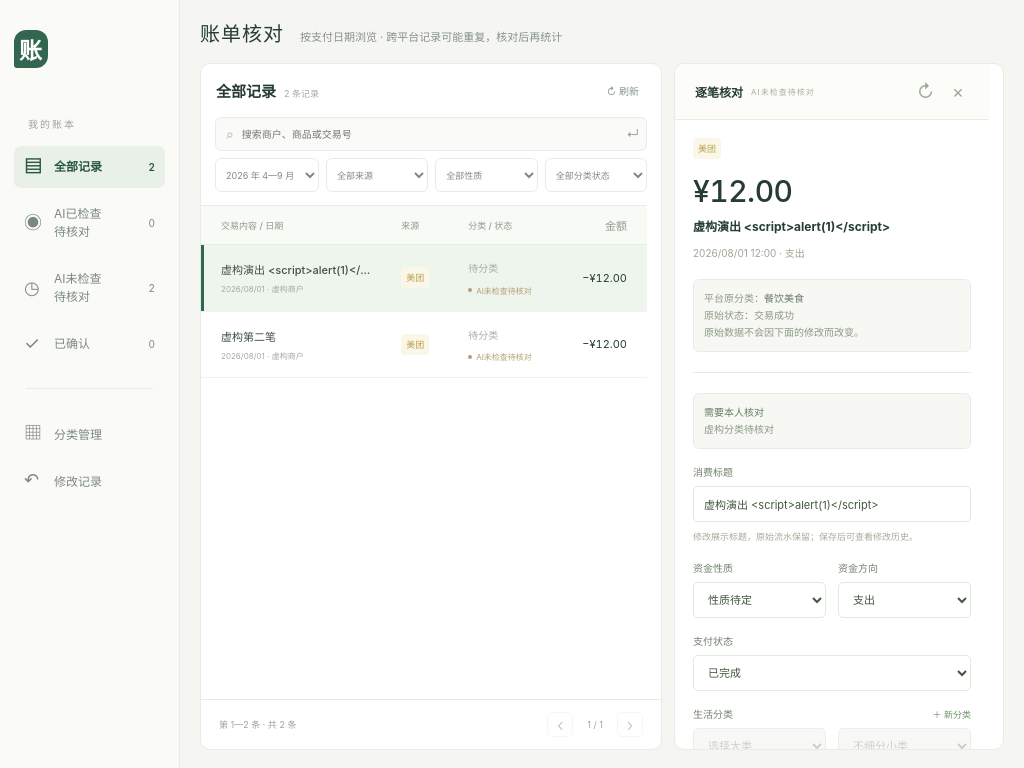
ignores an older list response when a newer filter finishes first
The image size is (1024, 768).
Expected: the dropdown labelled "资金性质" is shown, x1=693 y1=582 x2=826 y2=618
Select "支付宝" in the dropdown named "来源平台": (377, 175) x1=326 y1=158 x2=428 y2=192
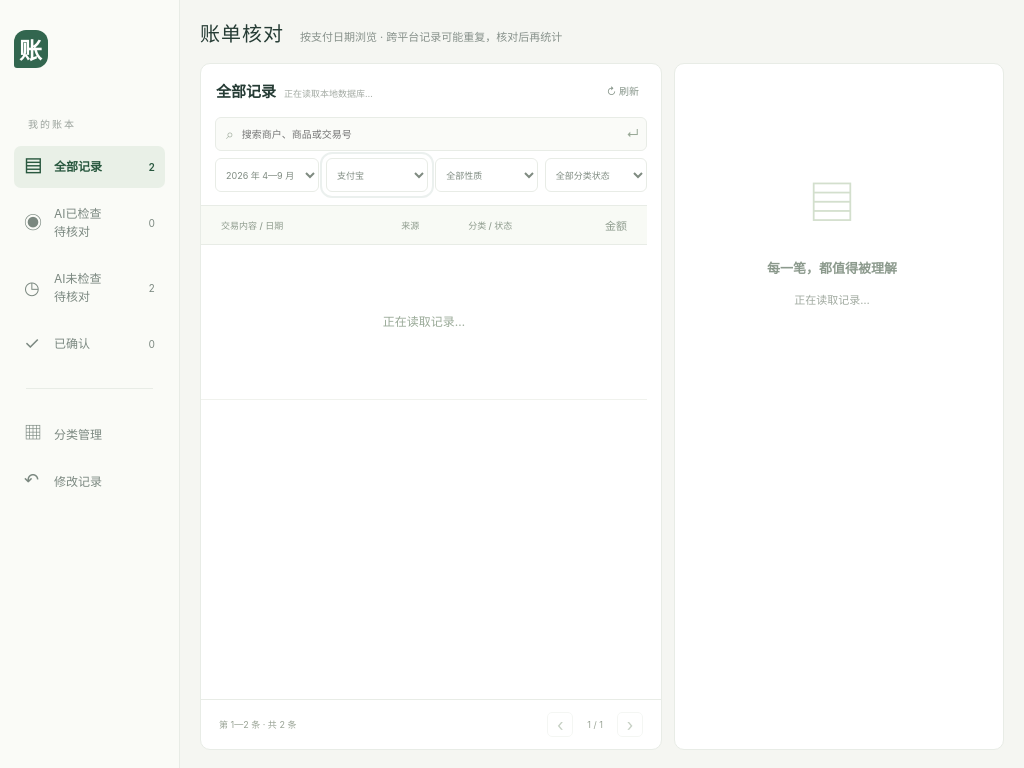
Select "微信" in the dropdown named "来源平台": (377, 175) x1=326 y1=158 x2=428 y2=192
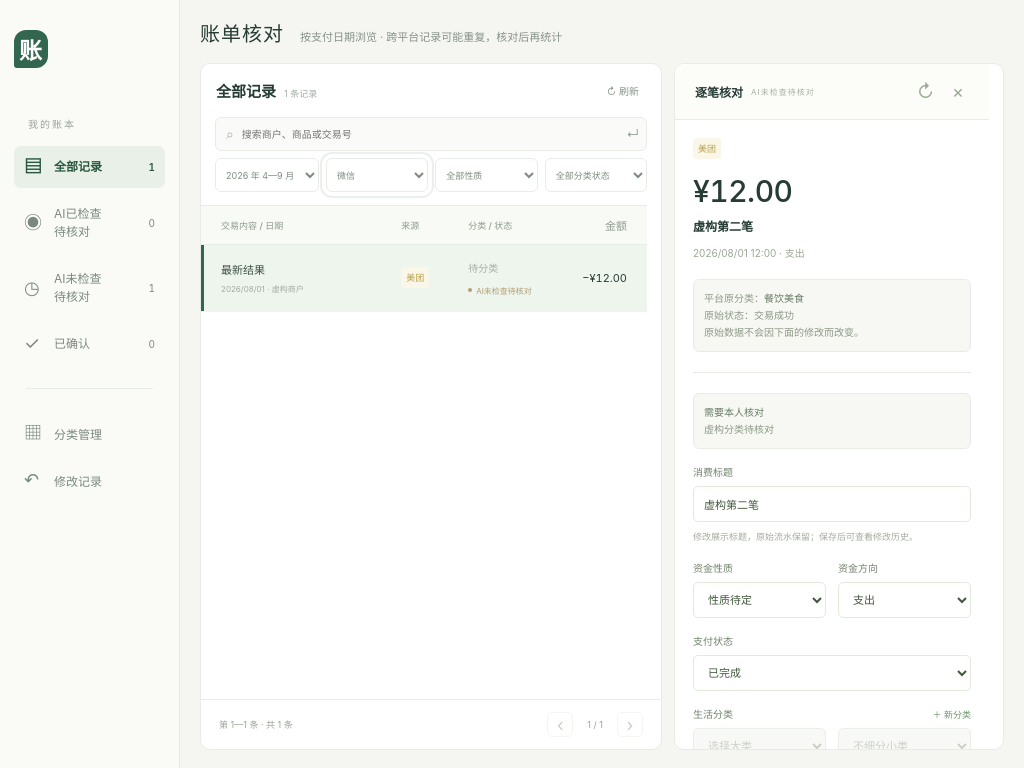
Now the row "最新结果 2026/08/01 · 虚构商户 美团 待分类 AI未检查待核对 −¥12.00" is shown, box x1=201 y1=244 x2=647 y2=311
